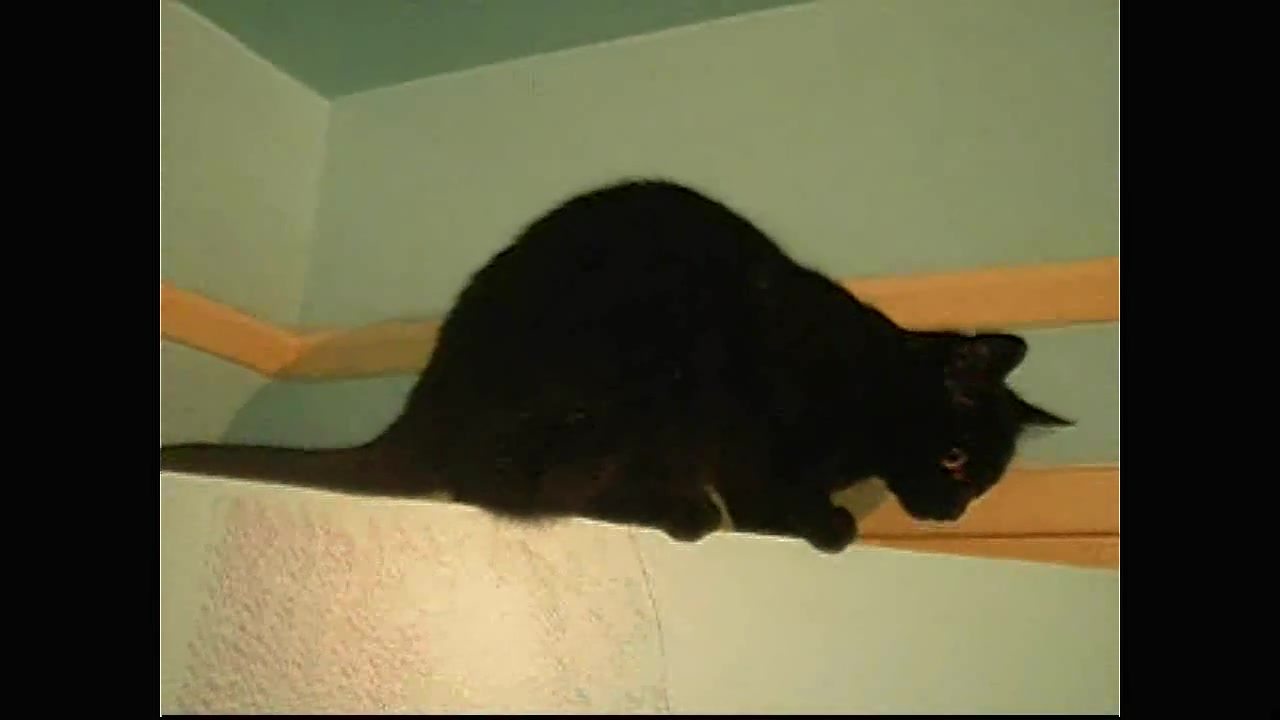cat: (163, 174, 1078, 555)
